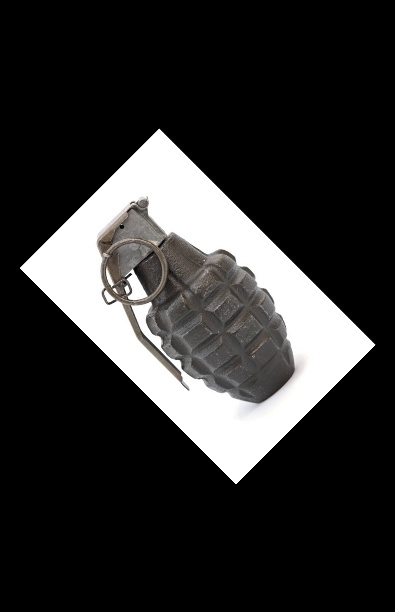e1: (95, 192, 297, 402)
